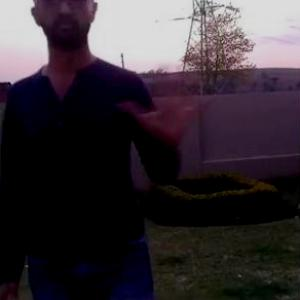follow_hand: (119, 53, 217, 144)
